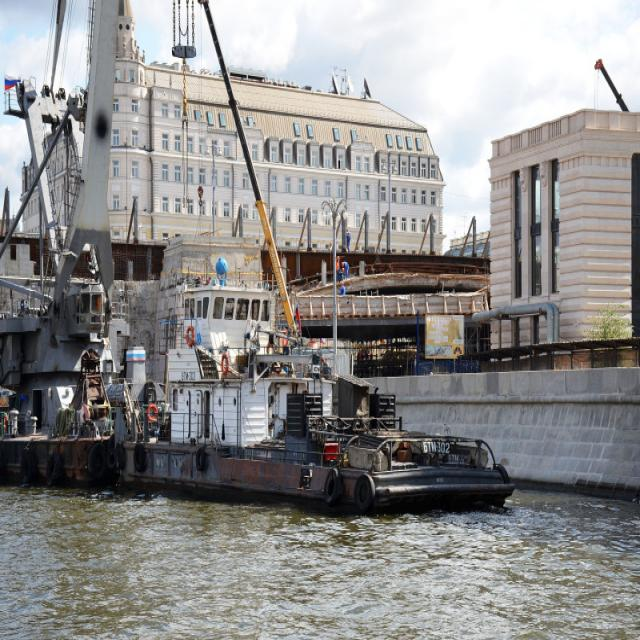tugboat: (112, 256, 521, 524)
